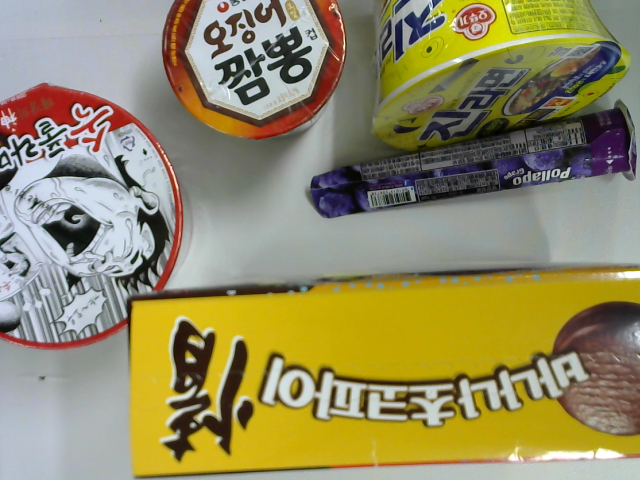Choco_Pie_Banana: (123, 258, 640, 477)
Hejangpul: (1, 72, 200, 355)
Jinlamyeon_Mild_Taste_Large_Cup: (364, 1, 633, 159)
Ojjam: (157, 1, 348, 149)
Polapo_Grape: (304, 95, 640, 232)
